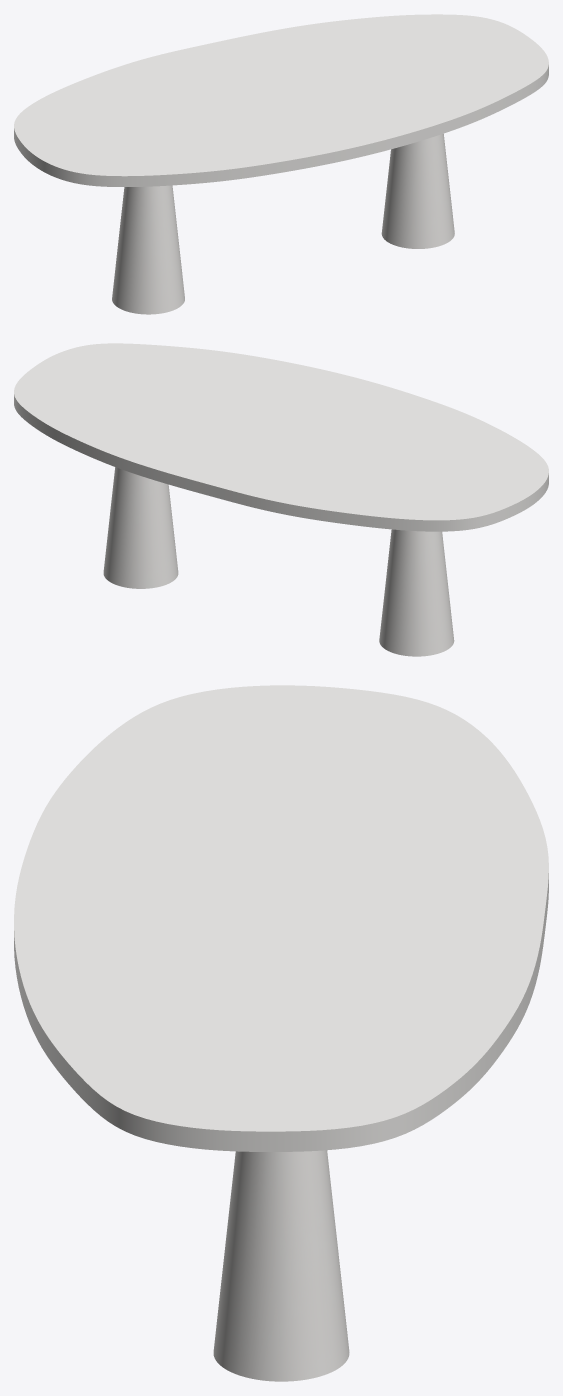
The model's file is purewhite_danish_standard_pebble.glb.
3 renders of one model, top to bottom at view 1: azimuth 30°, elevation 25°; view 2: azimuth 150°, elevation 25°; view 3: azimuth 270°, elevation 25°, orthographic. The views are drawn at different scales.
Visible parts, largest first — view 1: standard_danish, pebble; view 2: standard_danish, pebble; view 3: standard_danish, pebble.
Boxes of the visible parts, x1,y1,x2,y2 form: standard_danish: [14, 14, 548, 186]; pebble: [112, 133, 454, 314]; standard_danish: [14, 343, 548, 531]; pebble: [103, 467, 454, 656]; standard_danish: [14, 685, 548, 1151]; pebble: [213, 1150, 349, 1381].
Size of the model in its own units: 7.5 by 2.5 by 3.8.
Materials: 1 (1 with a texture image).
